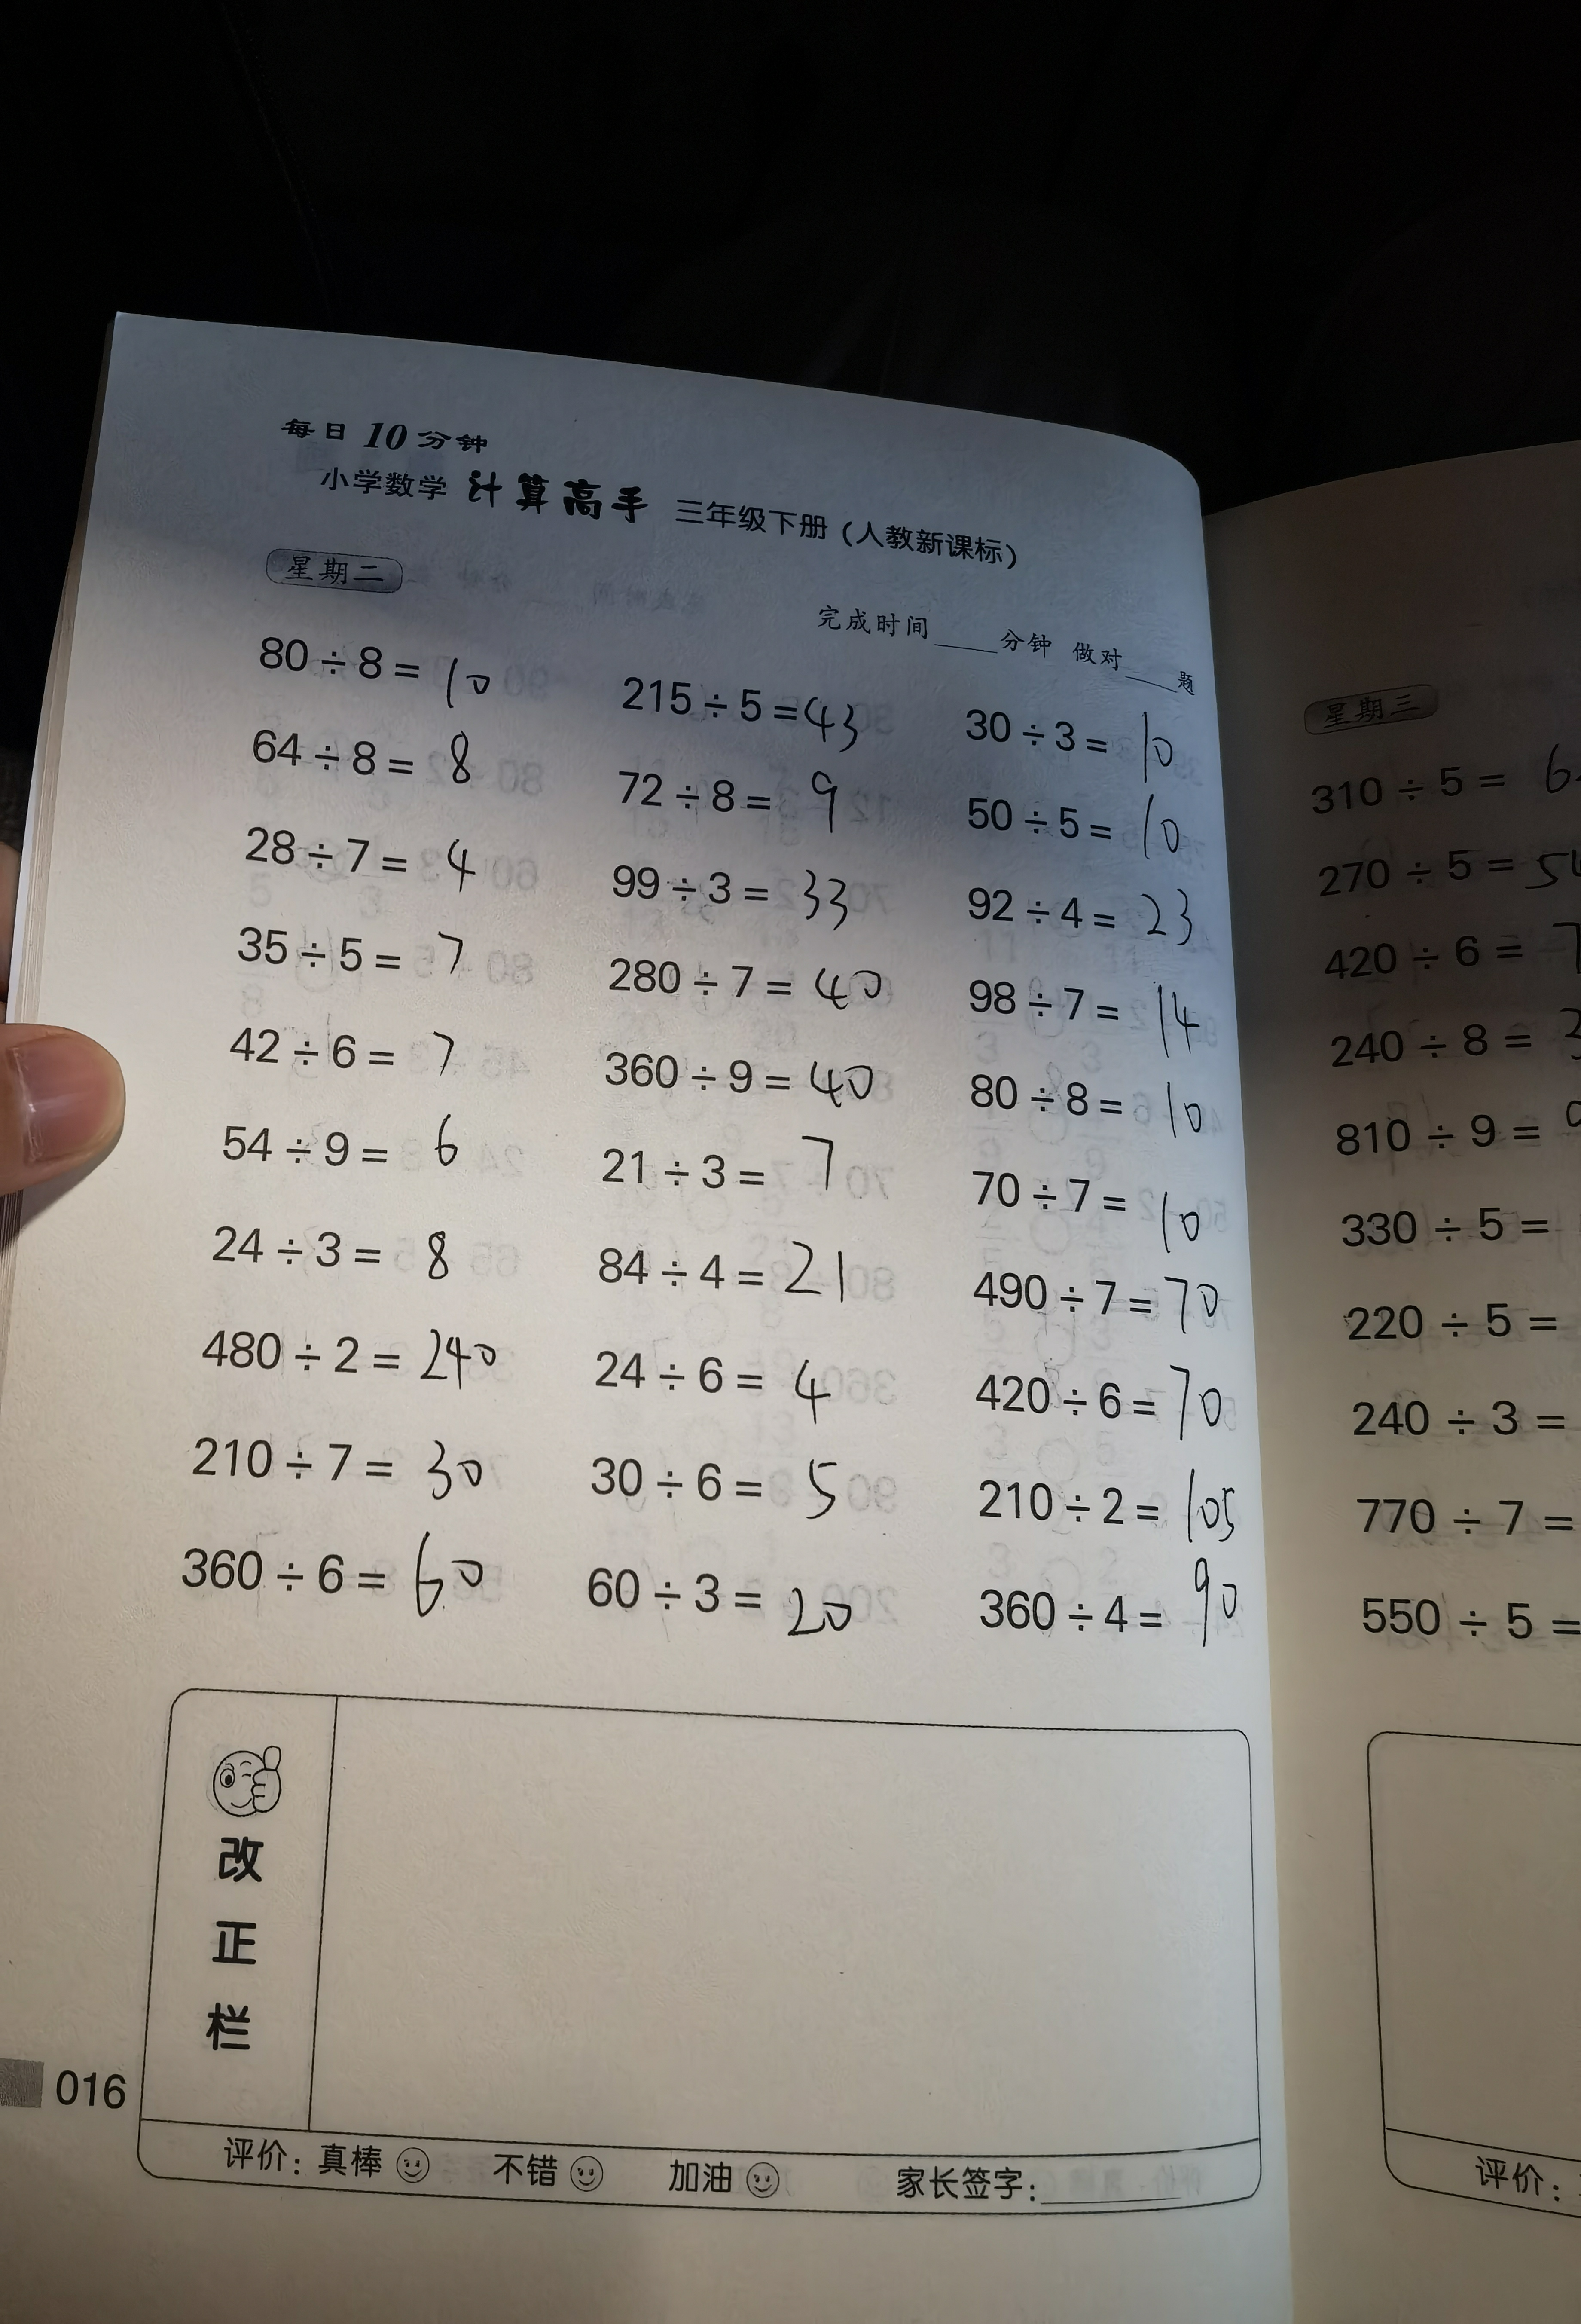equation: (556, 1548, 912, 1655), (226, 598, 506, 718), (120, 1537, 508, 1623), (932, 1445, 1251, 1549), (161, 1415, 496, 1511), (164, 1309, 508, 1394), (609, 646, 866, 759), (191, 1110, 499, 1202), (233, 810, 506, 902), (955, 971, 1225, 1062), (582, 849, 880, 932), (935, 1565, 1249, 1643), (187, 1205, 457, 1295), (573, 1230, 870, 1311), (946, 693, 1191, 791), (566, 1449, 868, 1526), (589, 948, 891, 1023), (969, 1168, 1212, 1262), (556, 1346, 840, 1426), (595, 1133, 873, 1212), (219, 912, 496, 992), (960, 1368, 1251, 1442), (591, 1041, 888, 1112), (953, 877, 1210, 956), (940, 1274, 1244, 1341), (603, 755, 859, 835), (240, 723, 498, 798), (221, 1015, 508, 1075), (972, 1075, 1218, 1143), (963, 787, 1191, 856)
